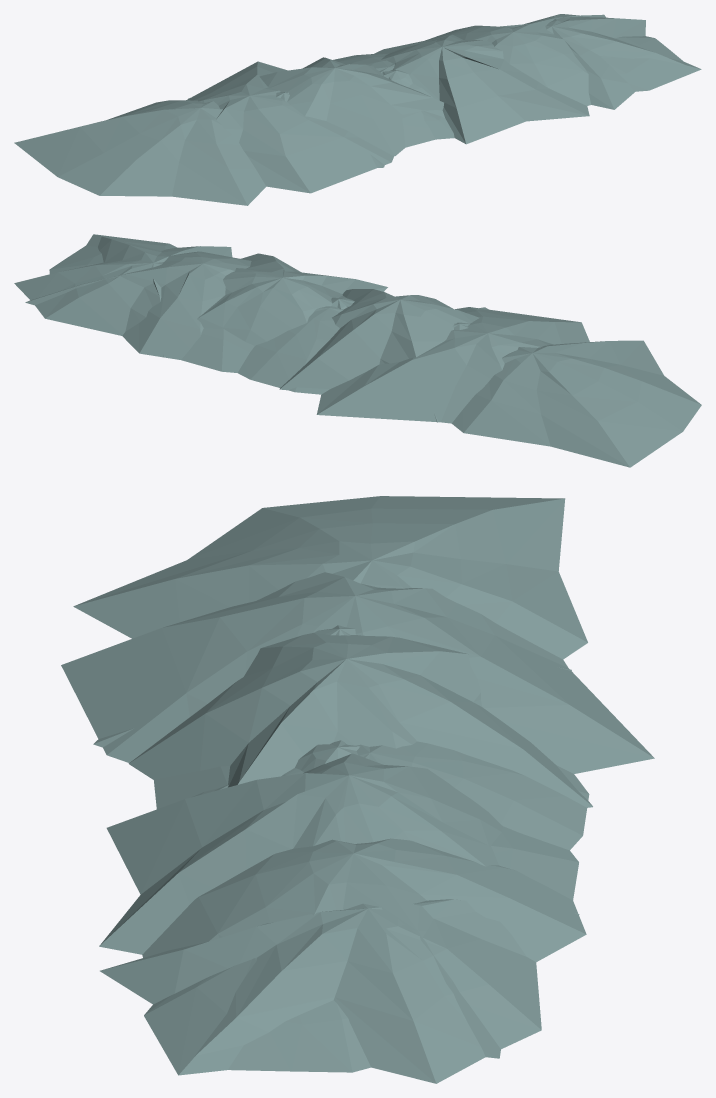
File: range_grove_far.glb
3 renders of one model, top to bottom at view 1: azimuth 30°, elevation 25°; view 2: azimuth 150°, elevation 25°; view 3: azimuth 270°, elevation 25°, orthographic. The views are drawn at different scales.
Parts seen in each view (by area): view 1: land; view 2: land; view 3: land.
Part boxes in pixels (<box>): land: <box>14,14,701,205</box>; land: <box>14,234,701,467</box>; land: <box>61,496,654,1083</box>.
Size of the model in its own units: 889 by 70.19 by 380.
